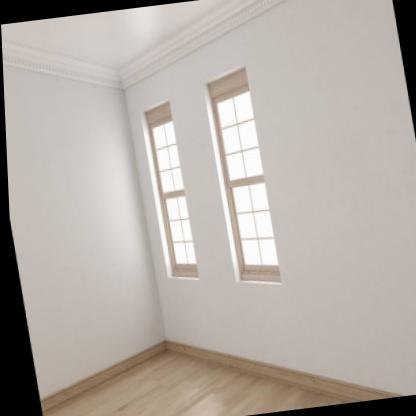Window: (205, 65, 279, 285), (142, 99, 194, 277)
